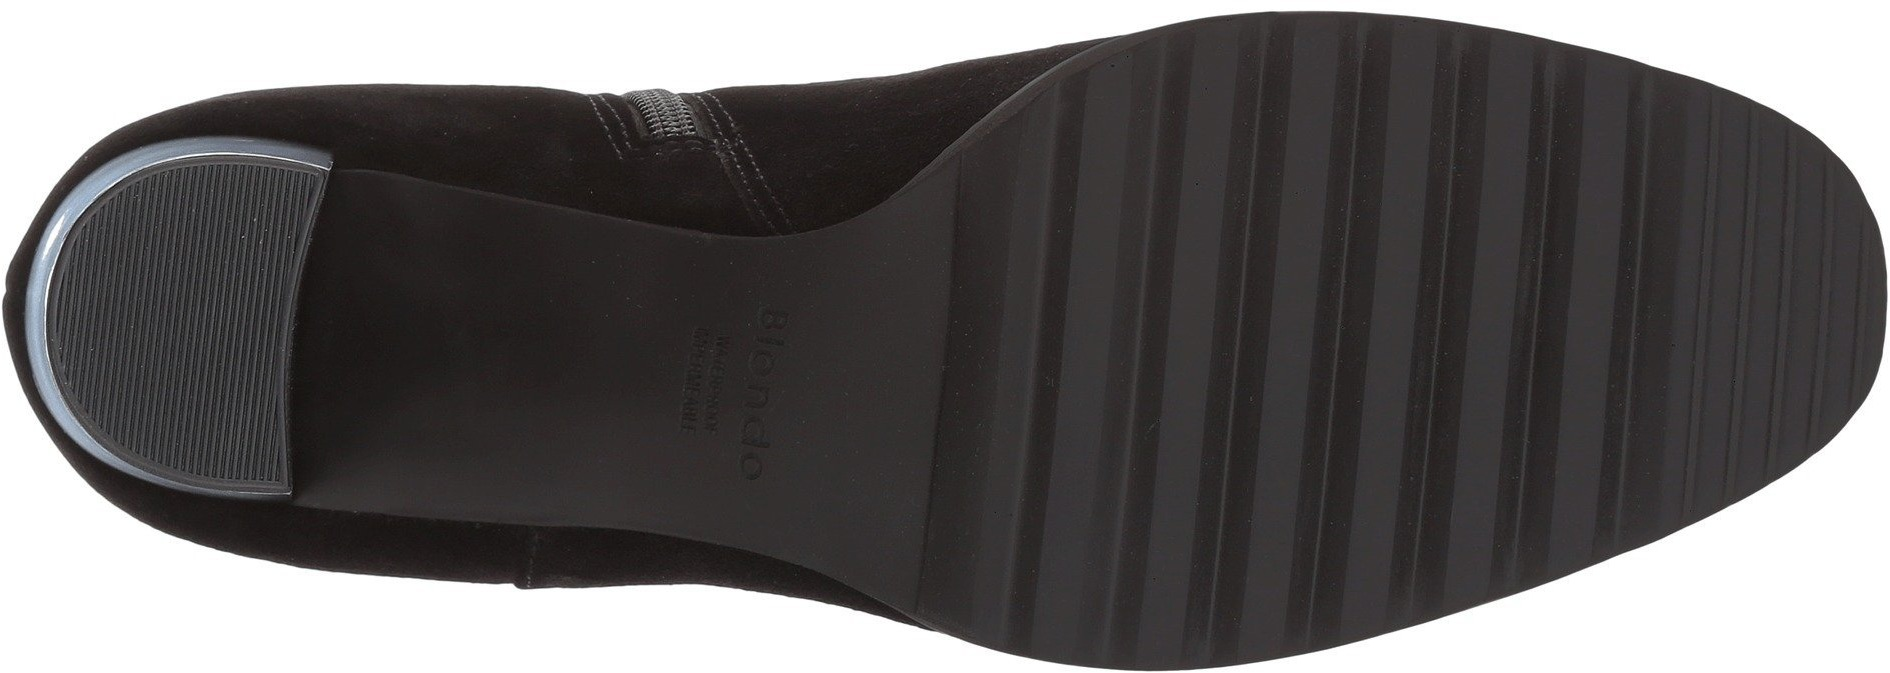other: (88, 218, 277, 410)
quad: (965, 136, 1302, 458), (1302, 62, 1633, 359), (1305, 367, 1542, 585), (1685, 168, 1868, 393)
